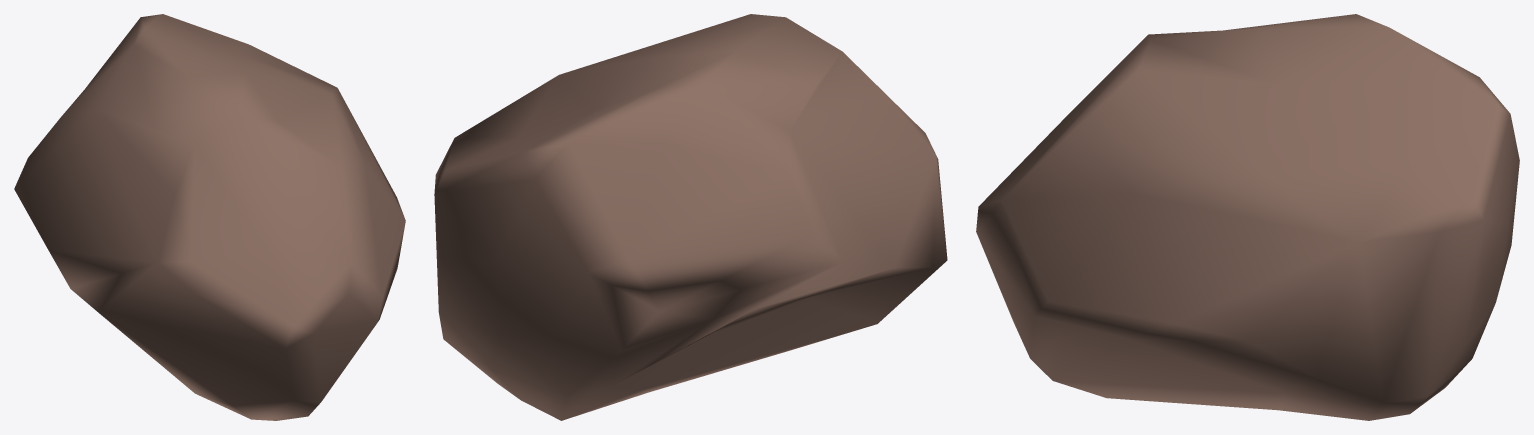
Rendered from SM_SmallStone01.fbx.
The picture shows the model from 3 angles, left to right: view 1: azimuth 30°, elevation 25°; view 2: azimuth 150°, elevation 25°; view 3: azimuth 270°, elevation 25°; orthographic projection. The views are drawn at different scales.
Visible parts, largest first — view 1: SM_SmallStone01; view 2: SM_SmallStone01; view 3: SM_SmallStone01.
Part boxes in pixels (<box>): SM_SmallStone01: <box>14,14,405,420</box>; SM_SmallStone01: <box>434,14,947,420</box>; SM_SmallStone01: <box>976,14,1519,420</box>.
Size of the model in its own units: 32.62 by 27.97 by 37.88.
